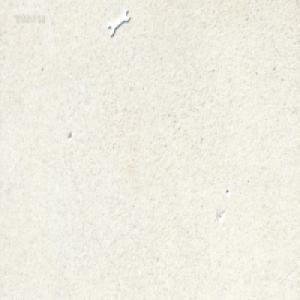Wrench: (108, 8, 130, 36)
